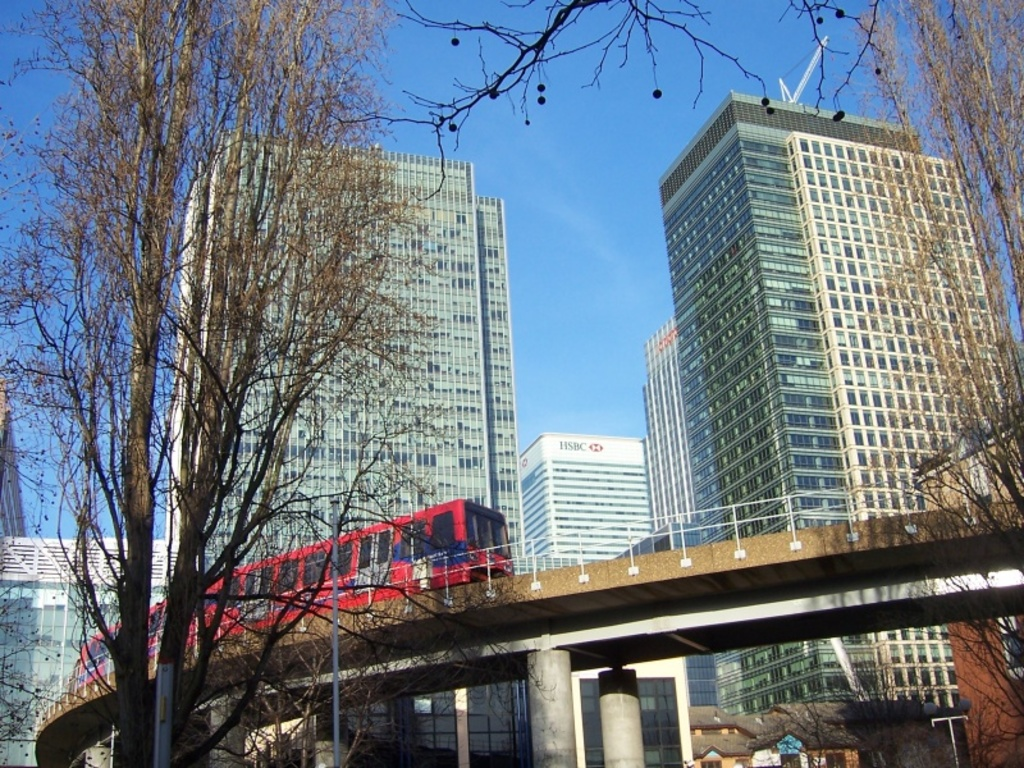Tree: (0, 0, 463, 766), (275, 0, 985, 195), (844, 0, 1022, 766), (40, 499, 473, 766), (766, 614, 944, 766), (0, 561, 102, 766)
